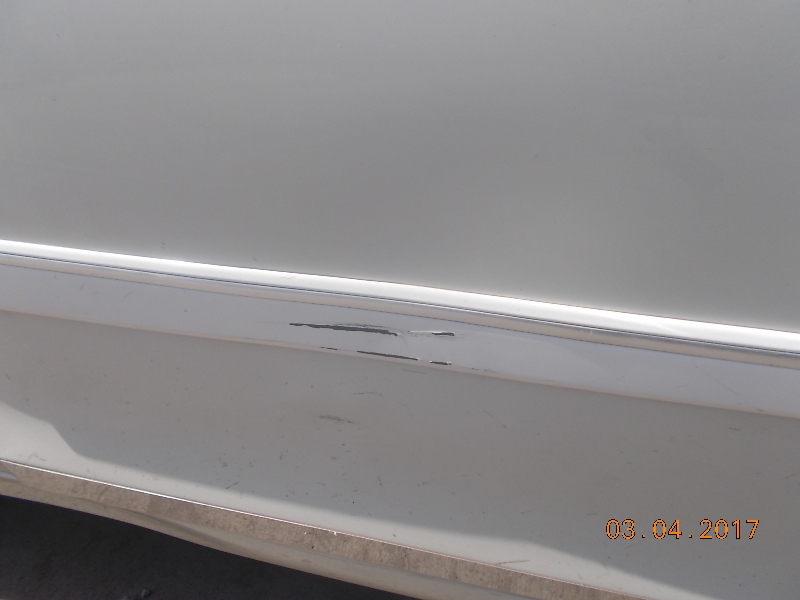Scratch_or_spot: (286, 306, 467, 372)
